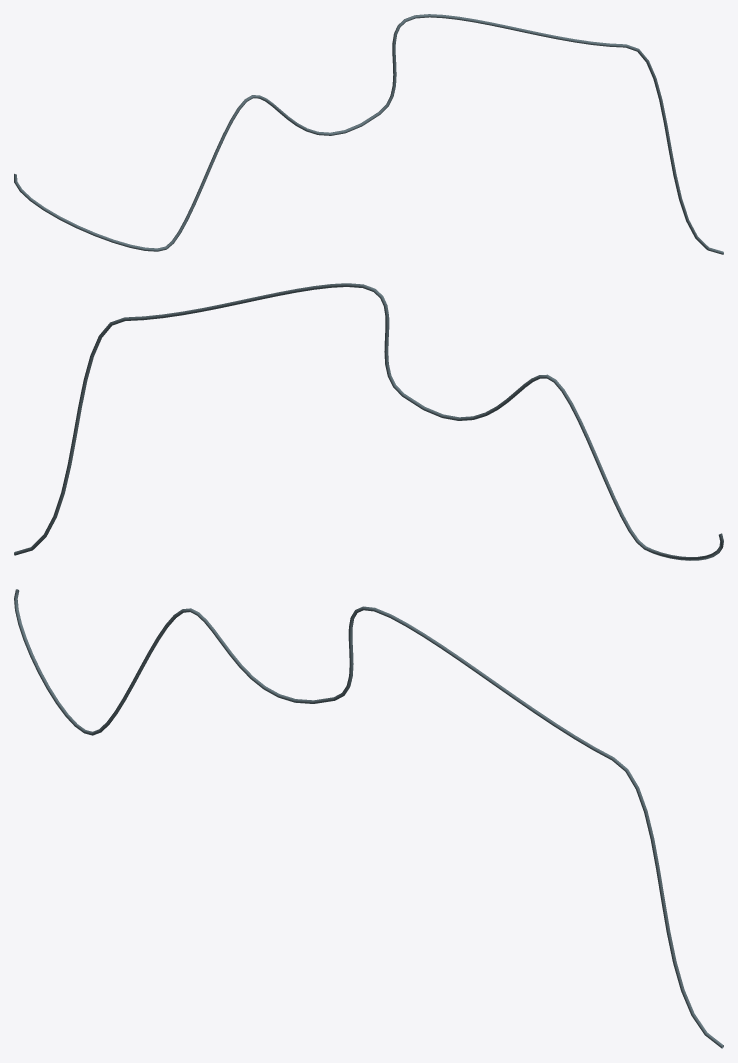
File: ElecWire11.fbx
3 renders of one model, top to bottom at view 1: azimuth 30°, elevation 25°; view 2: azimuth 150°, elevation 25°; view 3: azimuth 330°, elevation 25°, orthographic. The views are drawn at different scales.
Visible parts, largest first — view 1: ElecWire11_LOD0; view 2: ElecWire11_LOD0; view 3: ElecWire11_LOD0.
Part boxes in pixels (box(x1,y1,x2,y2)): ElecWire11_LOD0: box(14, 14, 723, 254); ElecWire11_LOD0: box(14, 283, 723, 560); ElecWire11_LOD0: box(14, 589, 723, 1048).
Size of what is drawn, in the model's own units: 546 by 245 by 61.9.
